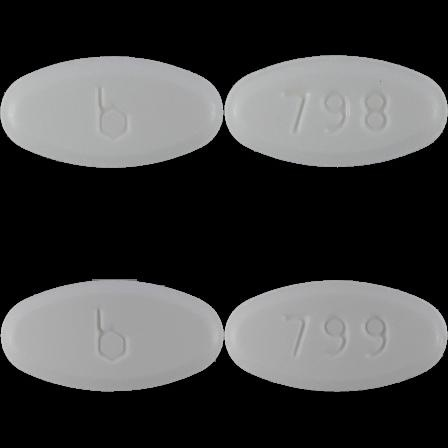0093-5378: (0, 0, 224, 224)
